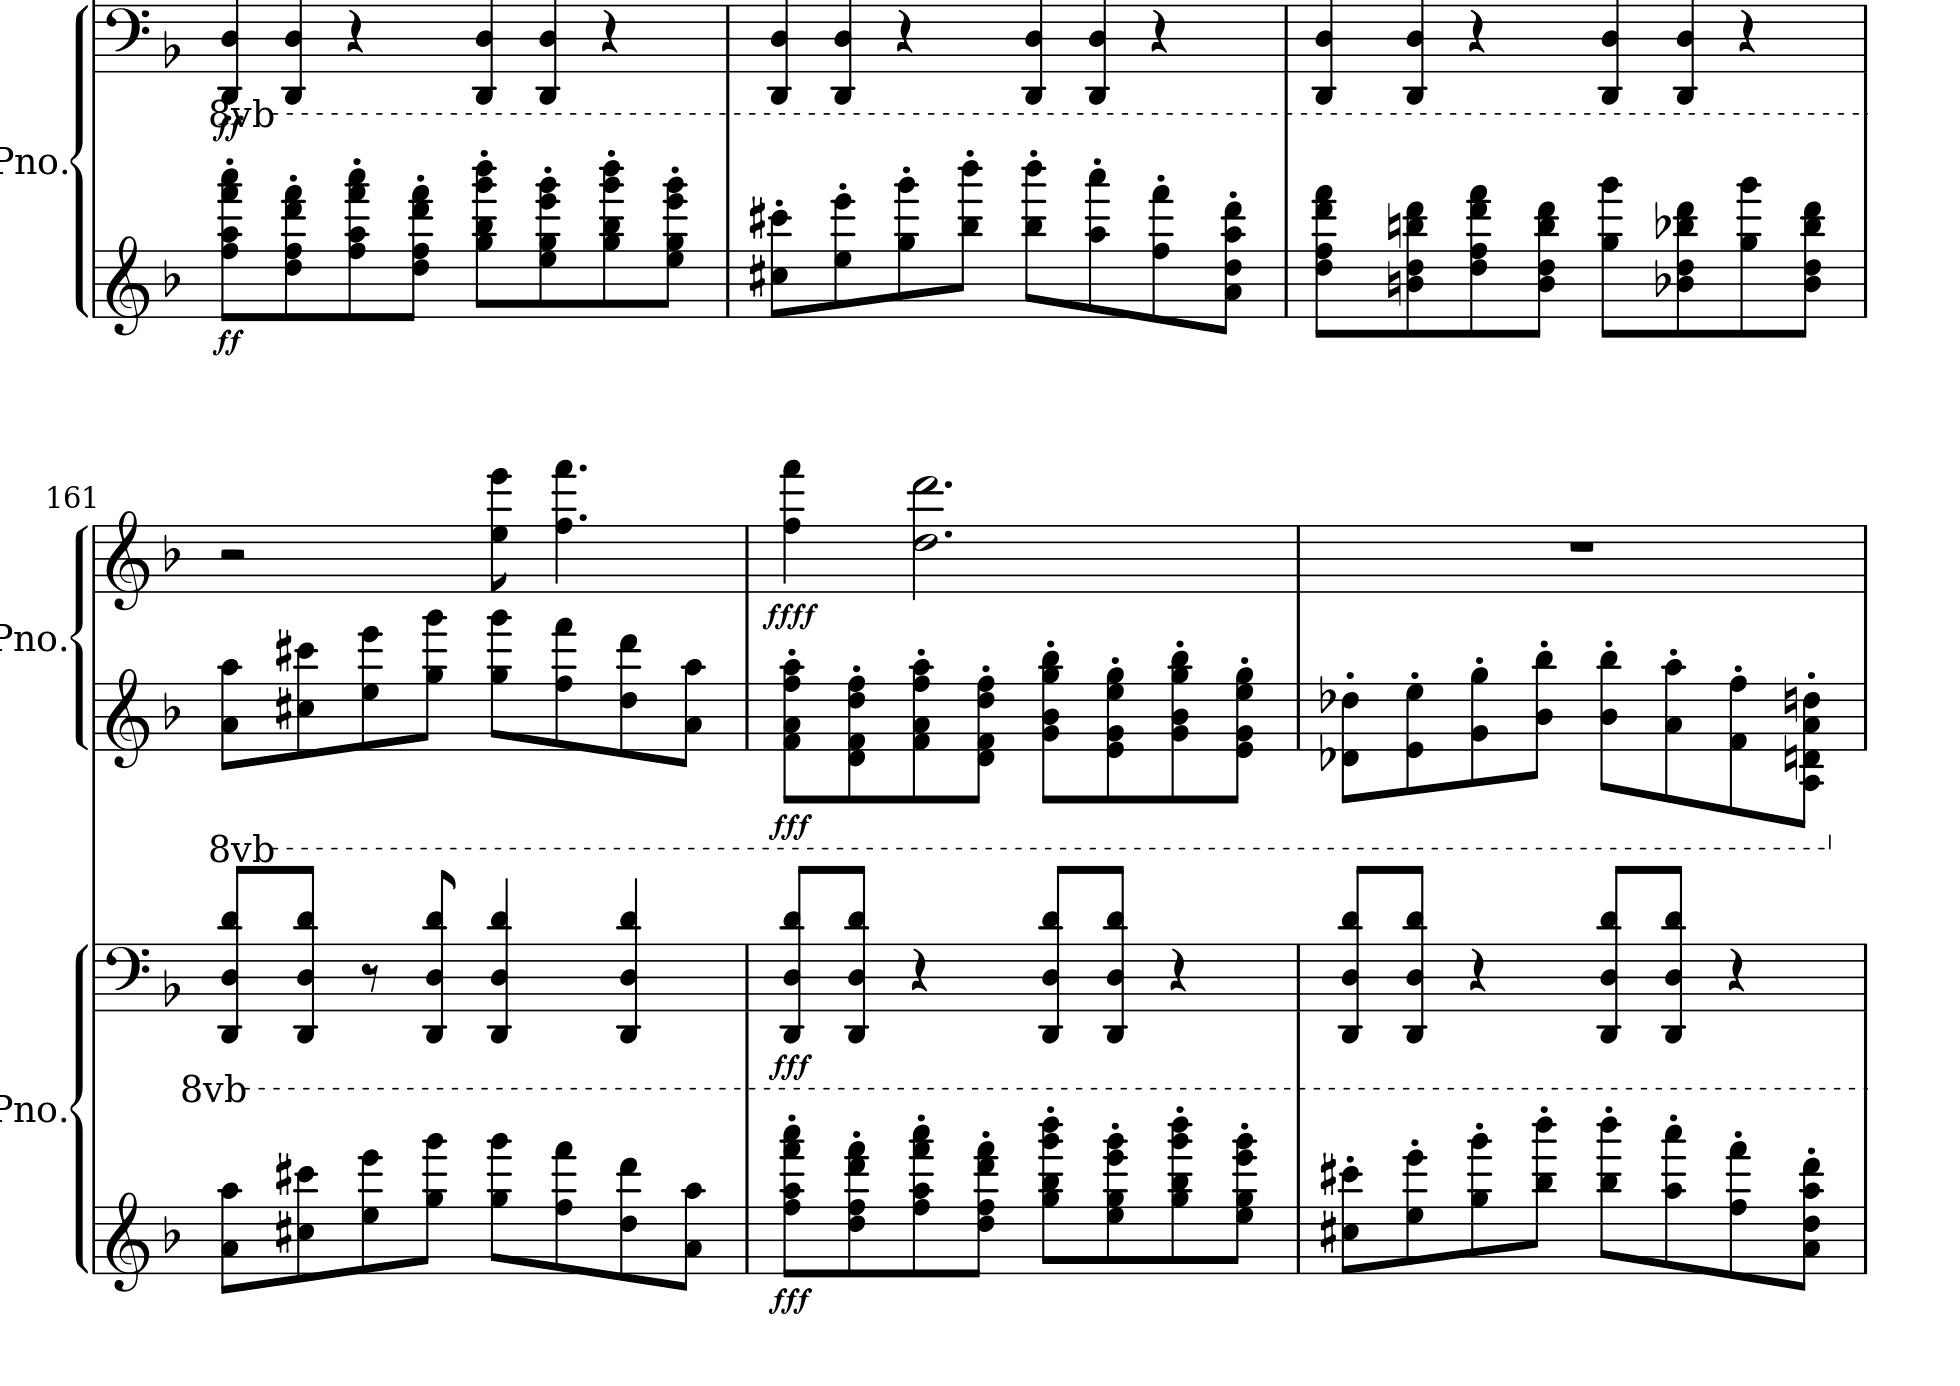1: (82, 481, 97, 511), (46, 481, 60, 510)
2_6_13: (906, 474, 943, 601)
4_8_15: (778, 457, 808, 592), (550, 457, 576, 595)
4_th: (484, 874, 514, 1047), (613, 874, 643, 1045)
6: (63, 481, 81, 511)
8_-1_6: (1341, 681, 1362, 805)
8_0_7: (1404, 681, 1426, 795)
8_10_17: (1660, 1122, 1690, 1276), (1086, 166, 1111, 319)
8_11_18: (949, 157, 984, 318), (1527, 1117, 1560, 1275), (1021, 157, 1051, 319), (1596, 1116, 1626, 1276)
8_1_8: (1728, 675, 1750, 817)
8_2_9: (1470, 666, 1491, 789)
8_3_10: (1659, 657, 1689, 805), (675, 658, 706, 766), (676, 1180, 706, 1291), (216, 658, 244, 772), (214, 1180, 241, 1294)
8_4_11: (1596, 649, 1623, 793), (1528, 649, 1557, 780)
8_4th: (420, 864, 456, 1047), (1782, 1153, 1827, 1291), (1206, 199, 1248, 337), (1786, 198, 1827, 337), (652, 175, 691, 319), (394, 181, 433, 322), (1524, 198, 1560, 339), (963, 1140, 999, 1279), (214, 165, 246, 322), (1308, 181, 1339, 339), (1791, 681, 1824, 829), (471, 157, 501, 319), (1167, 1114, 1197, 1273), (597, 157, 625, 319), (966, 673, 999, 807), (1038, 646, 1065, 807), (1227, 1129, 1257, 1273), (1167, 648, 1194, 805), (343, 166, 370, 322), (1227, 664, 1257, 804), (1465, 184, 1492, 336), (1038, 1116, 1063, 1275), (907, 655, 934, 805), (280, 181, 309, 322), (910, 1122, 936, 1278), (778, 657, 805, 802), (1104, 1129, 1131, 1275), (535, 175, 562, 319), (1401, 199, 1428, 340), (780, 1122, 804, 1279), (1671, 199, 1698, 337), (844, 1138, 870, 1278), (1104, 664, 1128, 804), (844, 672, 868, 805)
8_5_10: (1336, 1165, 1365, 1276)
8_5_12: (292, 640, 319, 760), (292, 1165, 316, 1285), (766, 208, 790, 319)
8_6_13: (615, 1156, 642, 1282), (615, 631, 640, 760)
8_7_14: (484, 466, 514, 595), (355, 624, 385, 751), (829, 193, 858, 318), (1402, 1149, 1431, 1273), (355, 1149, 382, 1275)
8_8_15: (1725, 1140, 1753, 1282), (1149, 184, 1176, 325), (550, 616, 577, 753), (550, 1138, 577, 1275)
8_9_16: (409, 607, 448, 753), (414, 1132, 447, 1276), (892, 175, 922, 319), (1599, 172, 1624, 339), (1737, 175, 1762, 339), (486, 609, 514, 753), (486, 1132, 514, 1275), (1467, 1132, 1495, 1273)
8_th: (217, 862, 259, 1048), (1596, 862, 1635, 1045), (1336, 861, 1374, 1047), (780, 862, 817, 1047), (1038, 861, 1074, 1048), (1401, 861, 1431, 1047), (1659, 862, 1689, 1045), (1101, 861, 1129, 1047), (843, 862, 871, 1047), (292, 861, 319, 1047)
Brace: (66, 942, 88, 1267), (67, 1, 88, 321), (69, 520, 88, 750)
Fclef: (103, 942, 151, 1012), (103, 3, 150, 73)
Flat: (160, 688, 181, 732), (160, 964, 181, 1008), (160, 256, 181, 298), (160, 1213, 181, 1255), (162, 529, 181, 574), (1653, 256, 1671, 300), (162, 28, 181, 67), (1653, 198, 1671, 240), (1317, 673, 1335, 715), (1318, 730, 1335, 772)
Gclef: (103, 667, 151, 769), (103, 232, 150, 337), (105, 505, 151, 610), (103, 1189, 150, 1294)
Natural: (1386, 258, 1404, 309), (1782, 732, 1800, 783), (1782, 673, 1800, 724), (1386, 199, 1402, 247)
Pno: (1, 1090, 57, 1126), (1, 142, 58, 177), (1, 619, 58, 652)
Rests1: (1566, 535, 1599, 555)
Rests2: (214, 544, 250, 564)
Rests4: (1465, 945, 1491, 994), (907, 945, 931, 994), (1167, 945, 1191, 994), (1725, 945, 1749, 994), (892, 7, 916, 55), (343, 7, 366, 55), (598, 7, 621, 55), (1147, 7, 1170, 55), (1465, 7, 1488, 55), (1735, 7, 1758, 55)
Rests8: (358, 960, 382, 994)
Sharp: (745, 250, 768, 301), (271, 684, 294, 733), (271, 1207, 294, 1257), (1317, 1207, 1339, 1257), (745, 193, 766, 241), (273, 625, 294, 673), (1318, 1150, 1338, 1197), (273, 1150, 292, 1195)
Single_barline: (1290, 525, 1308, 591), (87, 4, 103, 72), (1857, 523, 1873, 591), (1290, 1204, 1306, 1272), (738, 1206, 754, 1273), (1857, 4, 1873, 70), (718, 6, 735, 72), (1278, 250, 1294, 316), (87, 525, 103, 591), (1290, 682, 1306, 748), (738, 682, 754, 748), (1857, 682, 1873, 748), (87, 943, 103, 1009), (1278, 6, 1294, 70), (738, 526, 754, 591), (1857, 943, 1873, 1008), (1857, 1207, 1873, 1272), (1290, 945, 1306, 1008), (720, 250, 735, 316), (1857, 250, 1872, 316), (739, 943, 754, 1009), (88, 250, 102, 316), (88, 682, 102, 748), (88, 1206, 102, 1272)
dot: (942, 526, 955, 540), (942, 475, 954, 490), (577, 460, 589, 474), (577, 510, 589, 523)
ff: (210, 325, 246, 358)
fff: (766, 1048, 814, 1083), (766, 810, 814, 843), (766, 1284, 814, 1315)
ffff: (757, 600, 822, 633)
